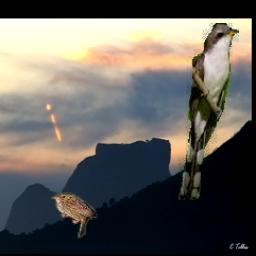Cuckoo: (180, 23, 240, 200)
Sparrow: (51, 192, 98, 239)
